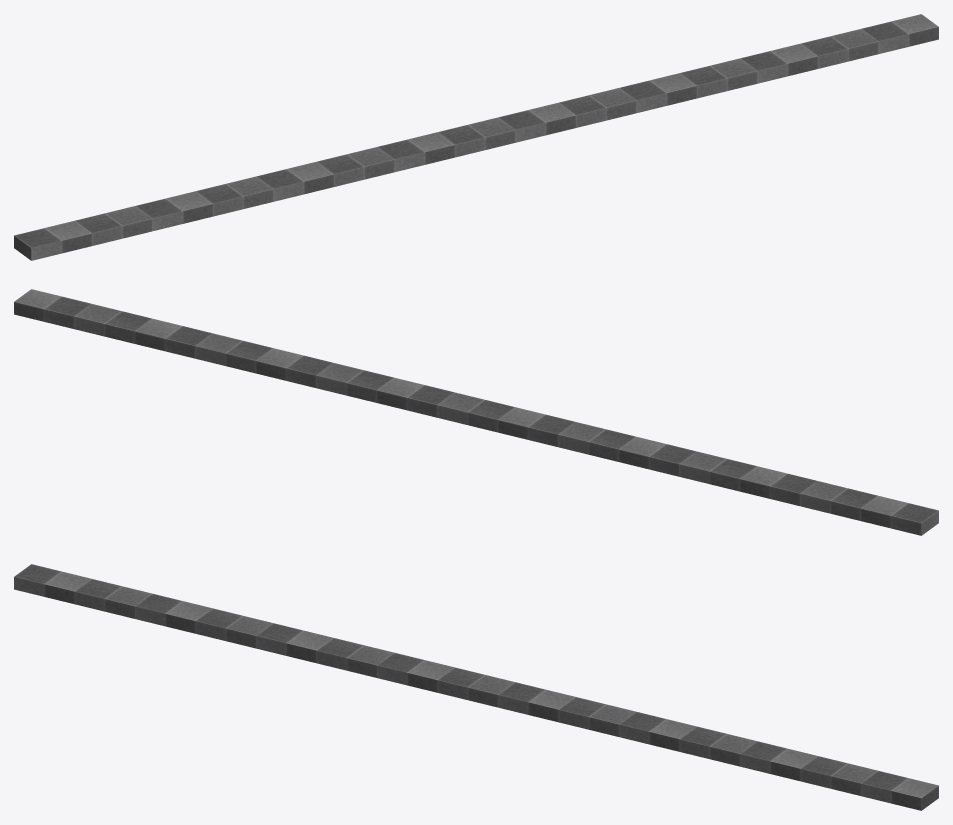
The model's file is W_M_Playground_Block1X15_L1.fbx.
3 renders of one model, top to bottom at view 1: azimuth 30°, elevation 25°; view 2: azimuth 150°, elevation 25°; view 3: azimuth 330°, elevation 25°, orthographic.
Visible parts, largest first — view 1: W_M_Playground_Block1X15_L1; view 2: W_M_Playground_Block1X15_L1; view 3: W_M_Playground_Block1X15_L1.
Boxes of the visible parts, left/top/right/bottom form: W_M_Playground_Block1X15_L1: left=14, top=14, right=938, bottom=260; W_M_Playground_Block1X15_L1: left=14, top=289, right=938, bottom=535; W_M_Playground_Block1X15_L1: left=14, top=564, right=938, bottom=810.
Size of the model in its own units: 15 by 0.2 by 0.5.
